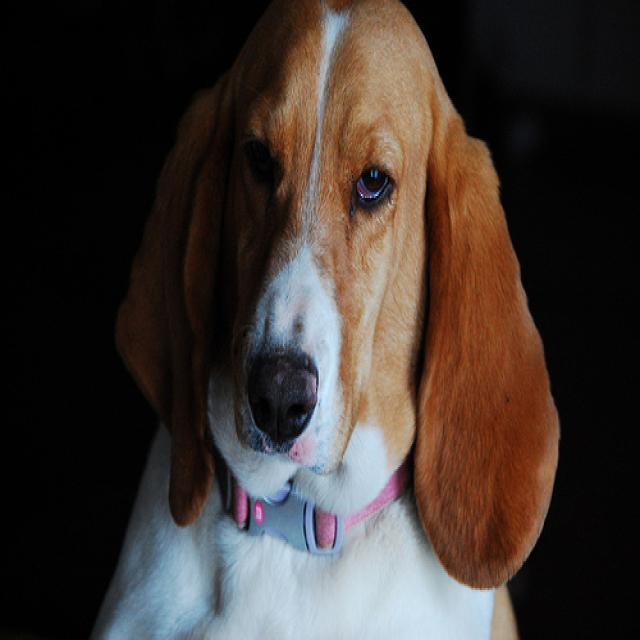dog: (113, 0, 558, 588)
